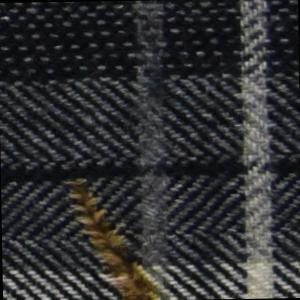Oil Stain: (56, 172, 167, 300)
